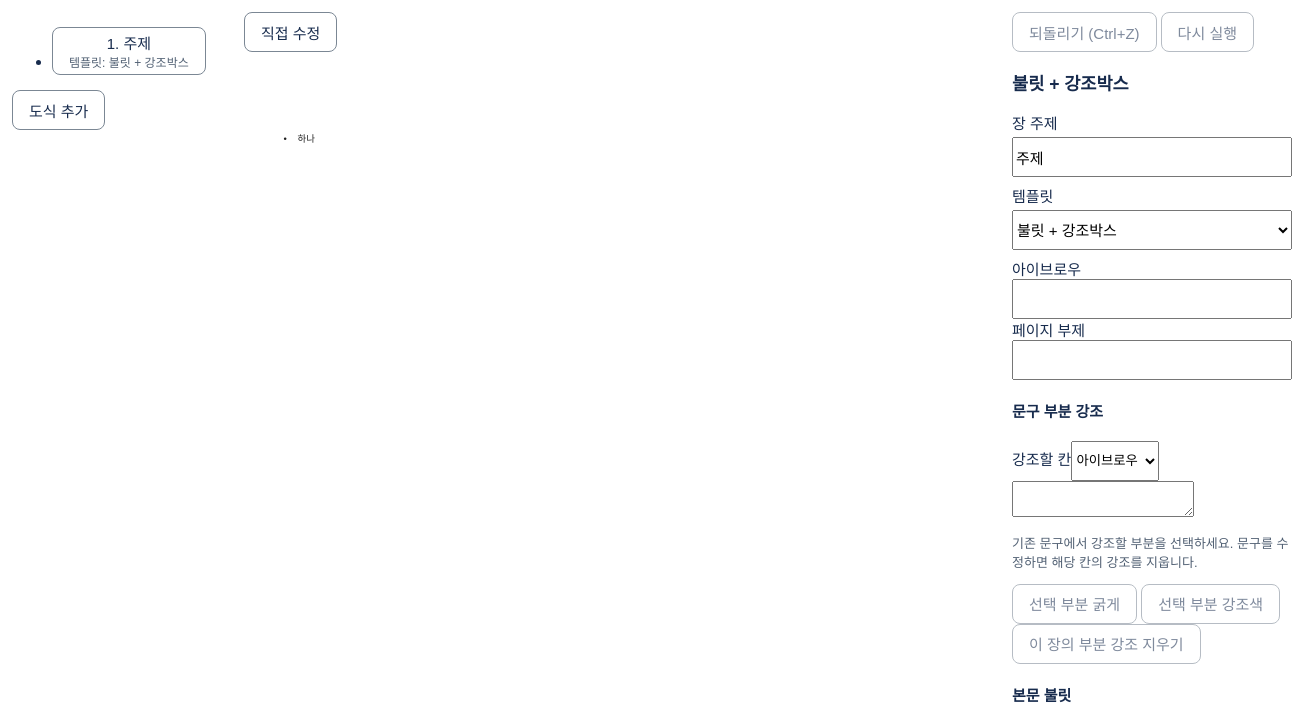
Scenario: 템플릿 전환 전에 미저장 내용을 저장하고 다음 저장에서 이전본 스냅샷을 요청한다
Type "새" into the field labelled "아이브로우" at (1152, 299), box [1012,279,1292,319]
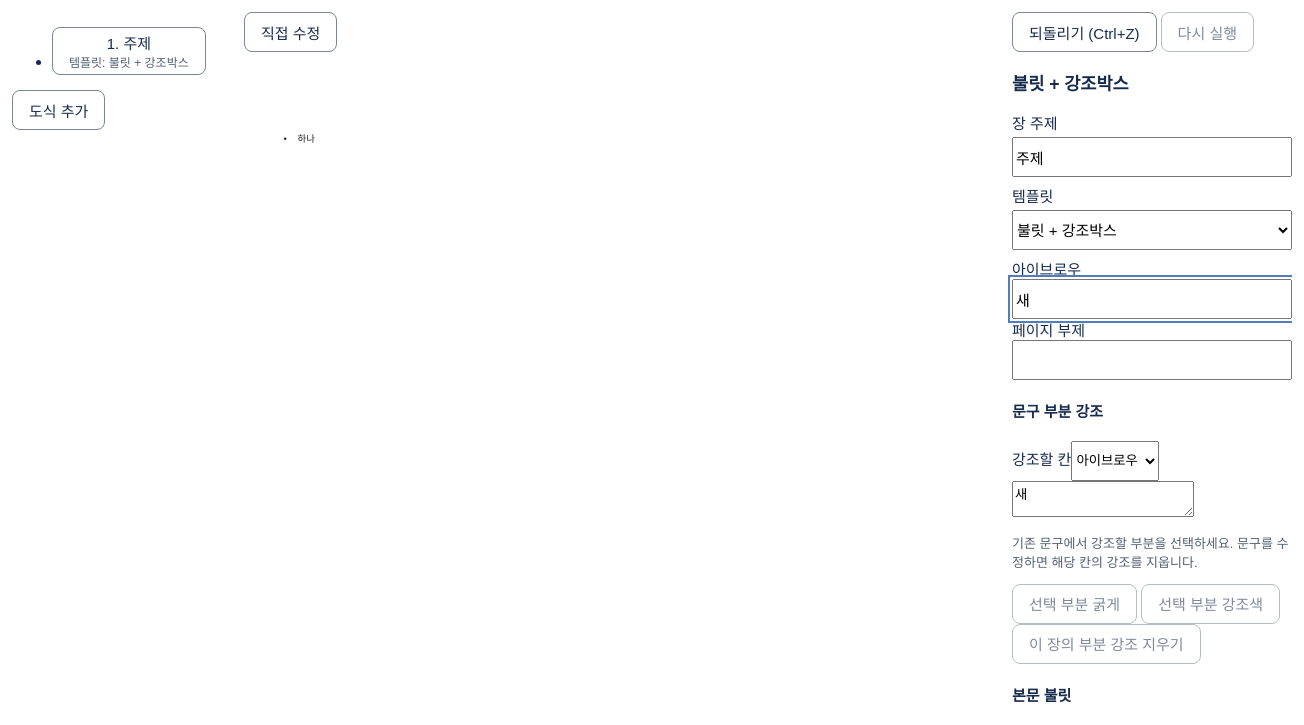
Select "카드 나열" in the dropdown labelled "템플릿" at (1152, 230), box [1012,210,1292,250]
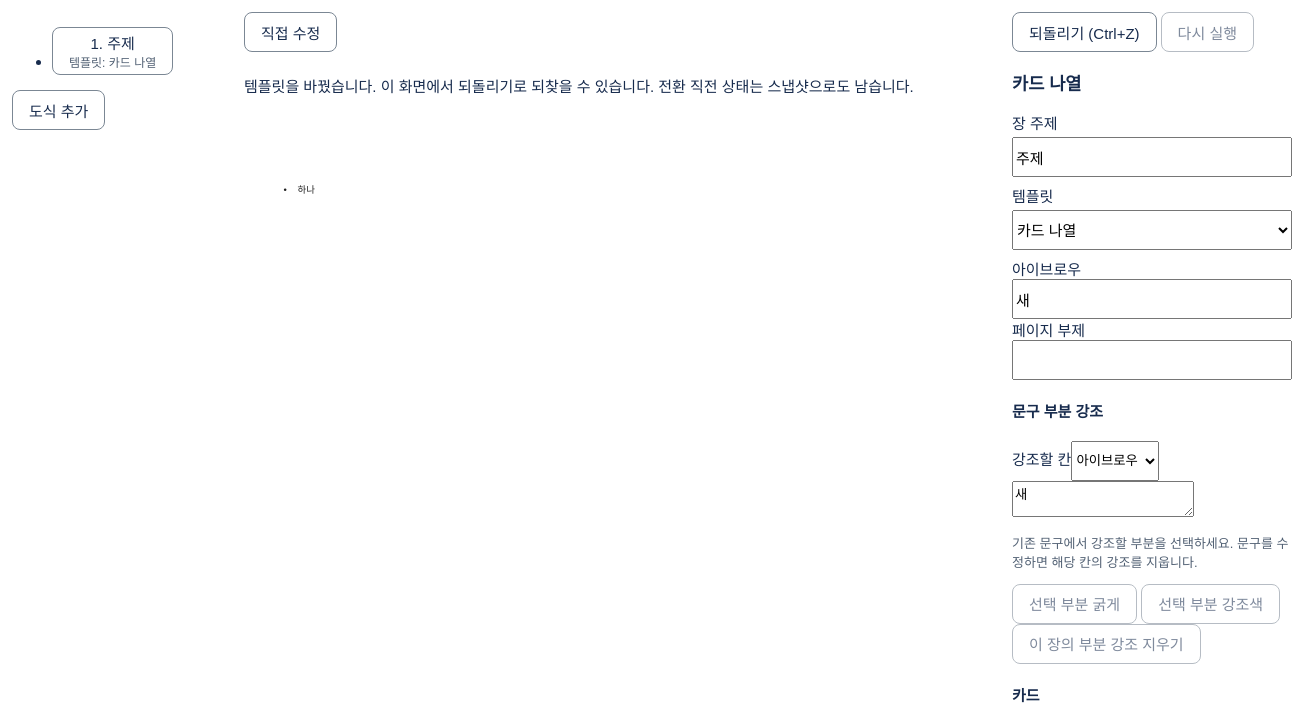
expect the text "템플릿을 바꿨습니다. 이 화면에서 되돌리기로 되찾을 수 있습니다. 전환 직전 상태는 스냅샷으로도 남습니다." is shown: met, box [244,75,1000,96]
